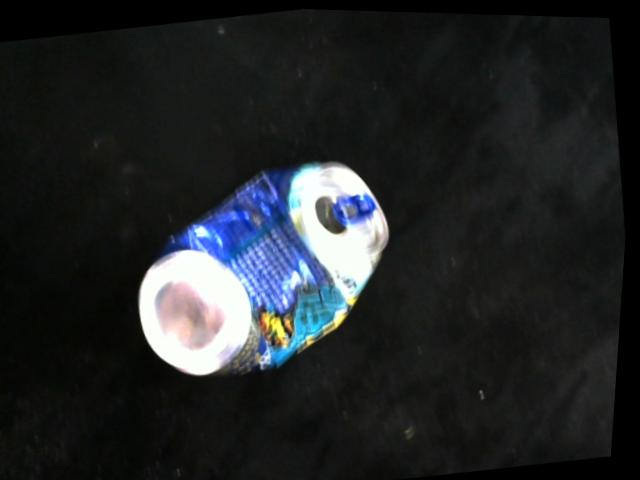can: (136, 159, 396, 380)
